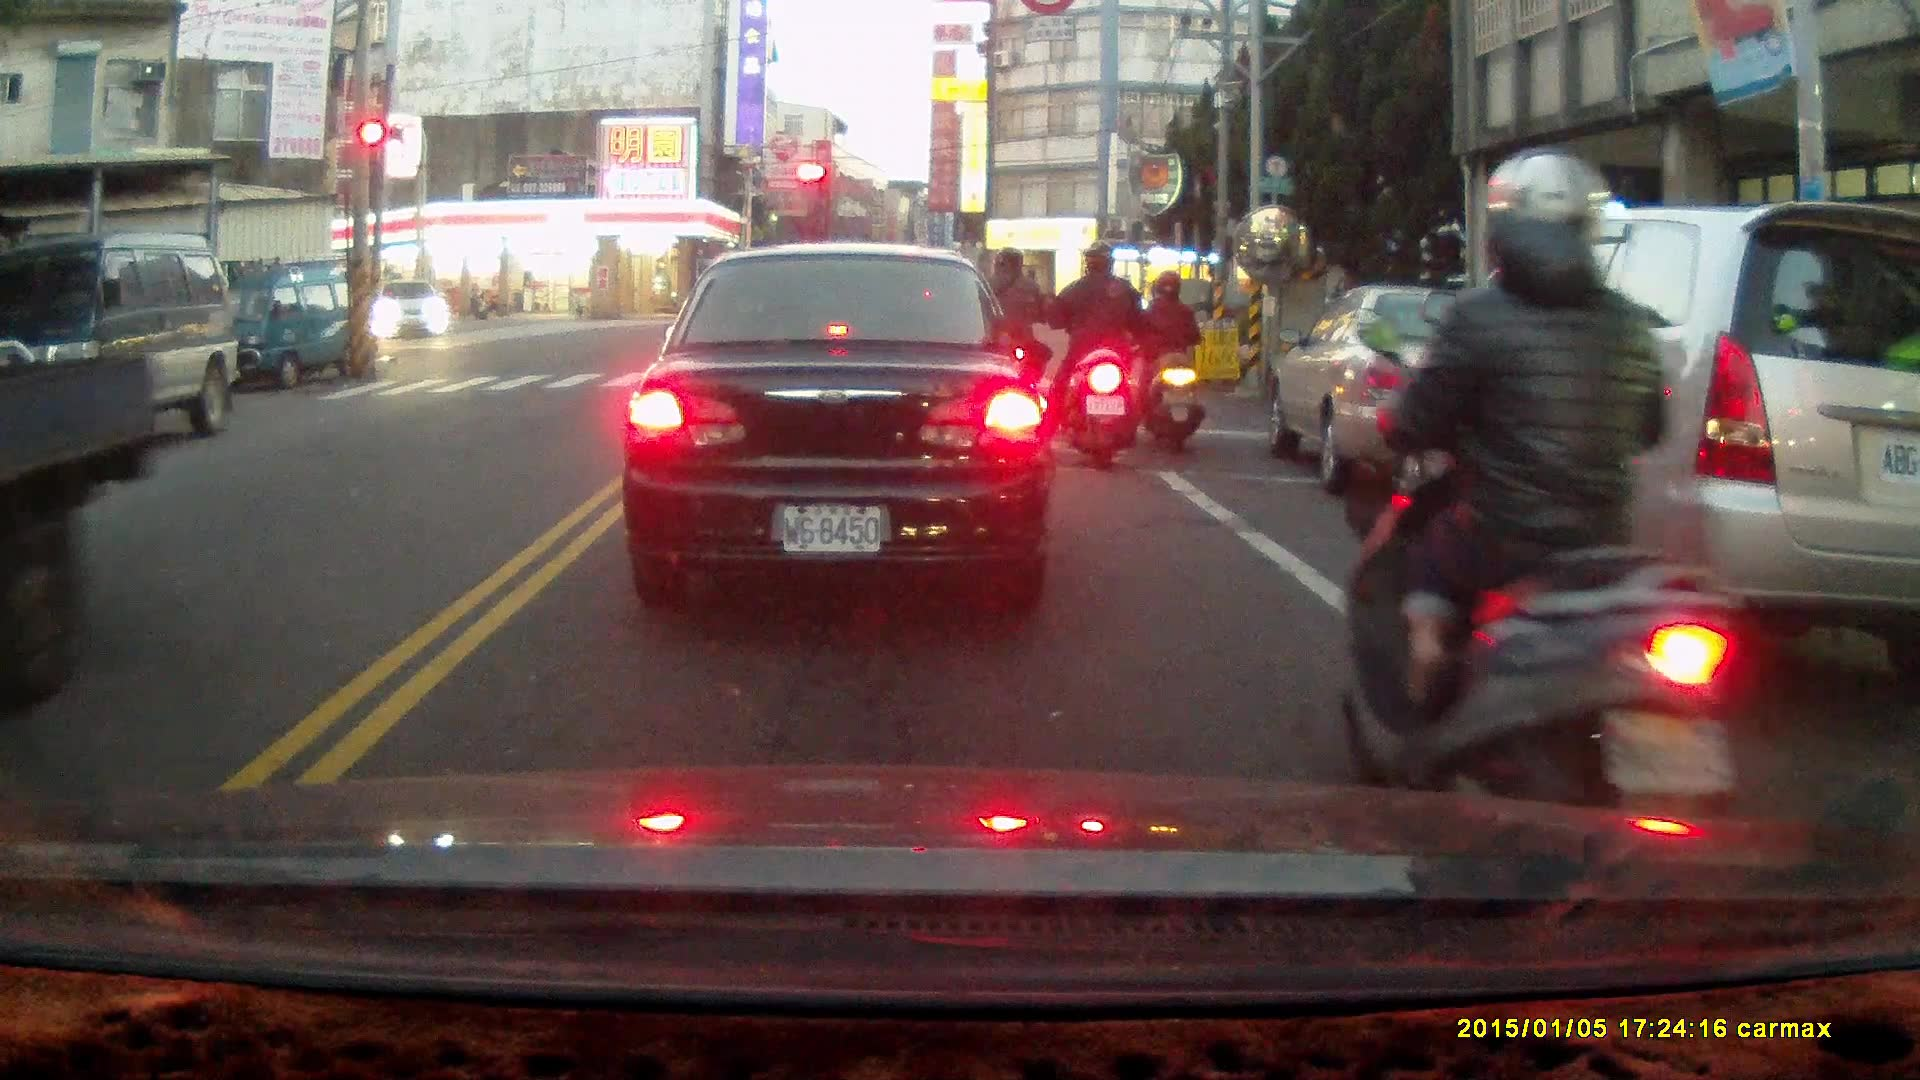rider: (1334, 145, 1753, 918), (1048, 242, 1141, 468), (964, 251, 1049, 432), (1135, 270, 1205, 451)
vehicle: (1378, 198, 1920, 686), (637, 247, 1047, 598), (1263, 286, 1600, 492), (1, 352, 171, 709), (5, 234, 243, 455), (192, 262, 383, 394), (372, 277, 451, 343)
